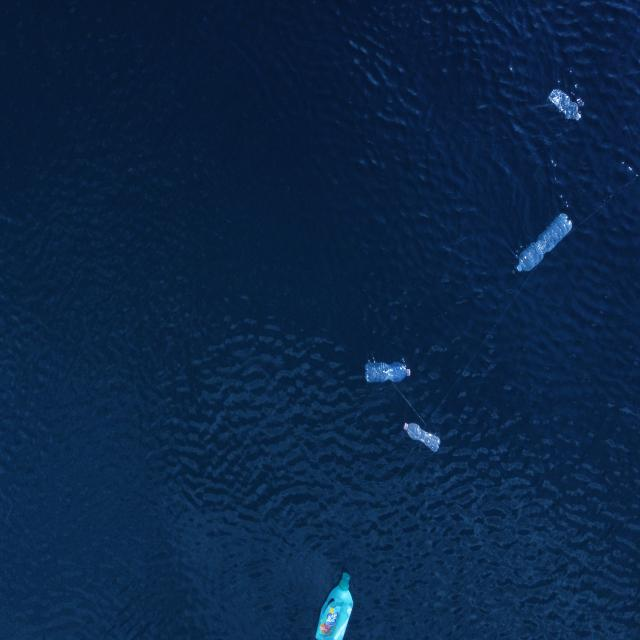bottles: (508, 204, 581, 284), (309, 556, 366, 640), (398, 408, 450, 461), (362, 347, 418, 395), (542, 78, 590, 131)
